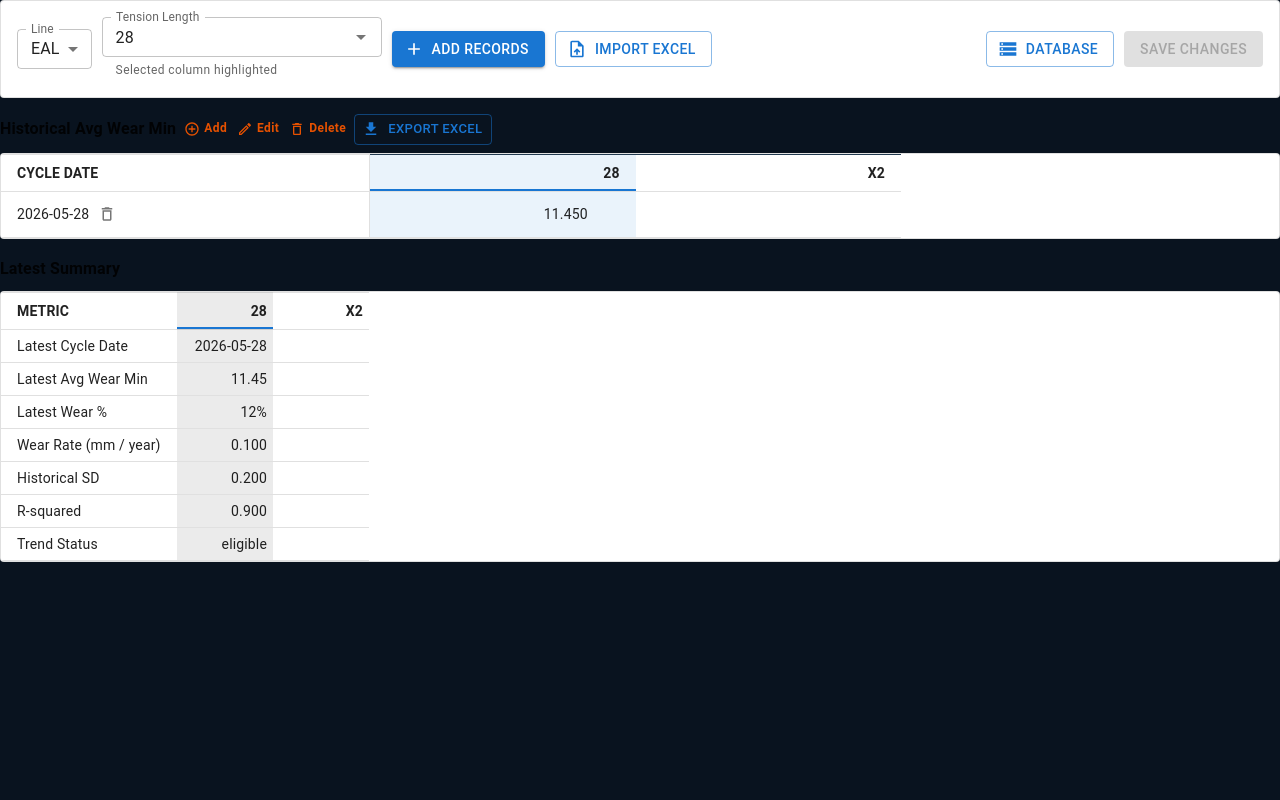
Test: WearRecordsPanel staged workbench › exposes batch, Excel, database, save, and normalized line-class workbench controls
Expected: the button "Add Records" is shown, [392,31,545,67]
Expected: the button "Import Excel" is shown, [555,31,712,67]
Click the dropdown named "Line": (45, 49) [31,40,60,58]
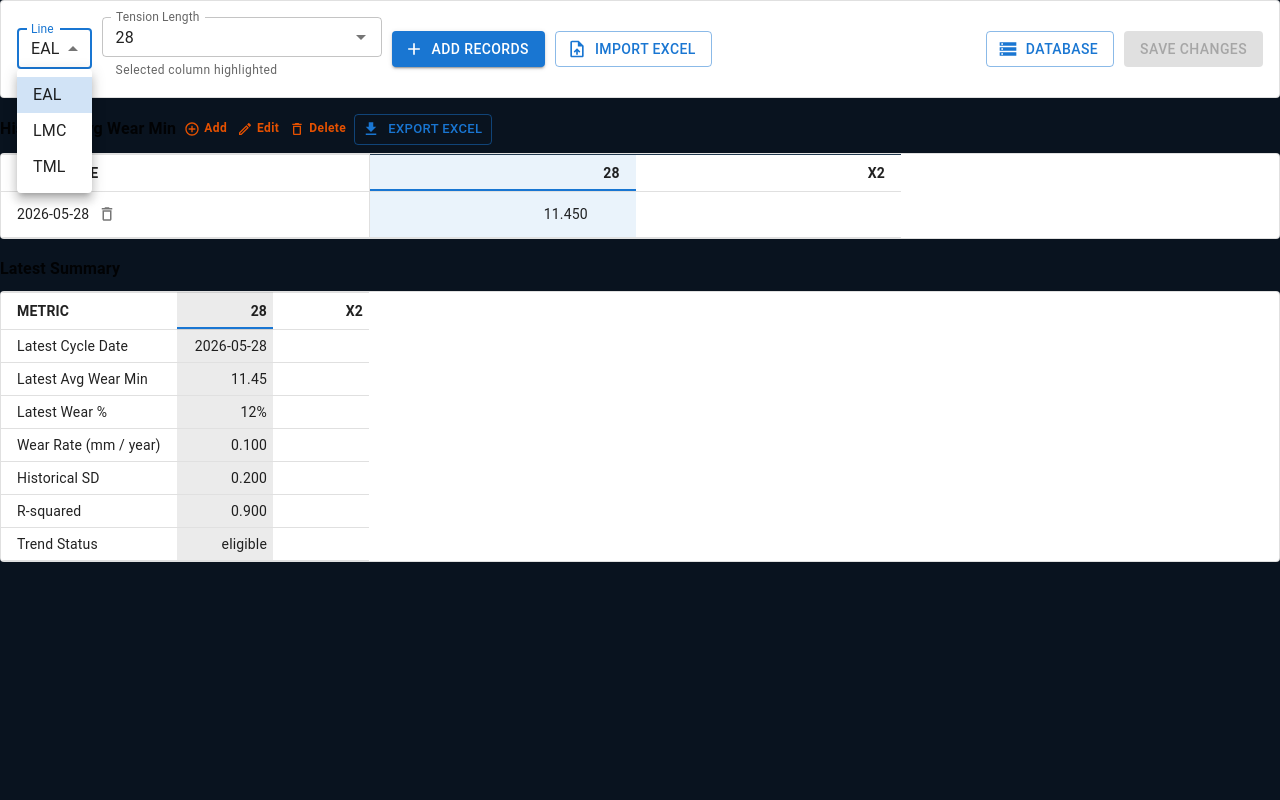
Click the option "LMC": (50, 130) [33,121,66,140]
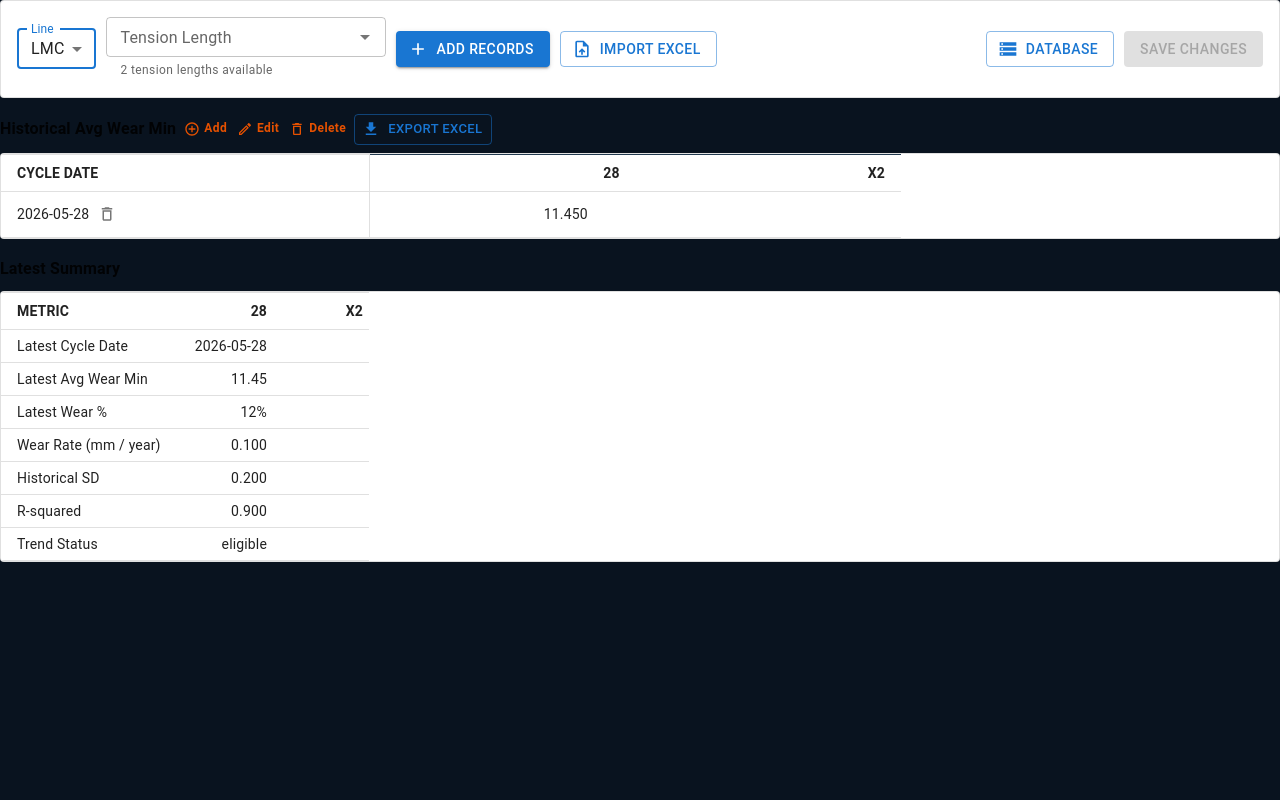
Click the button "Add Records": (473, 49) [396,31,550,67]
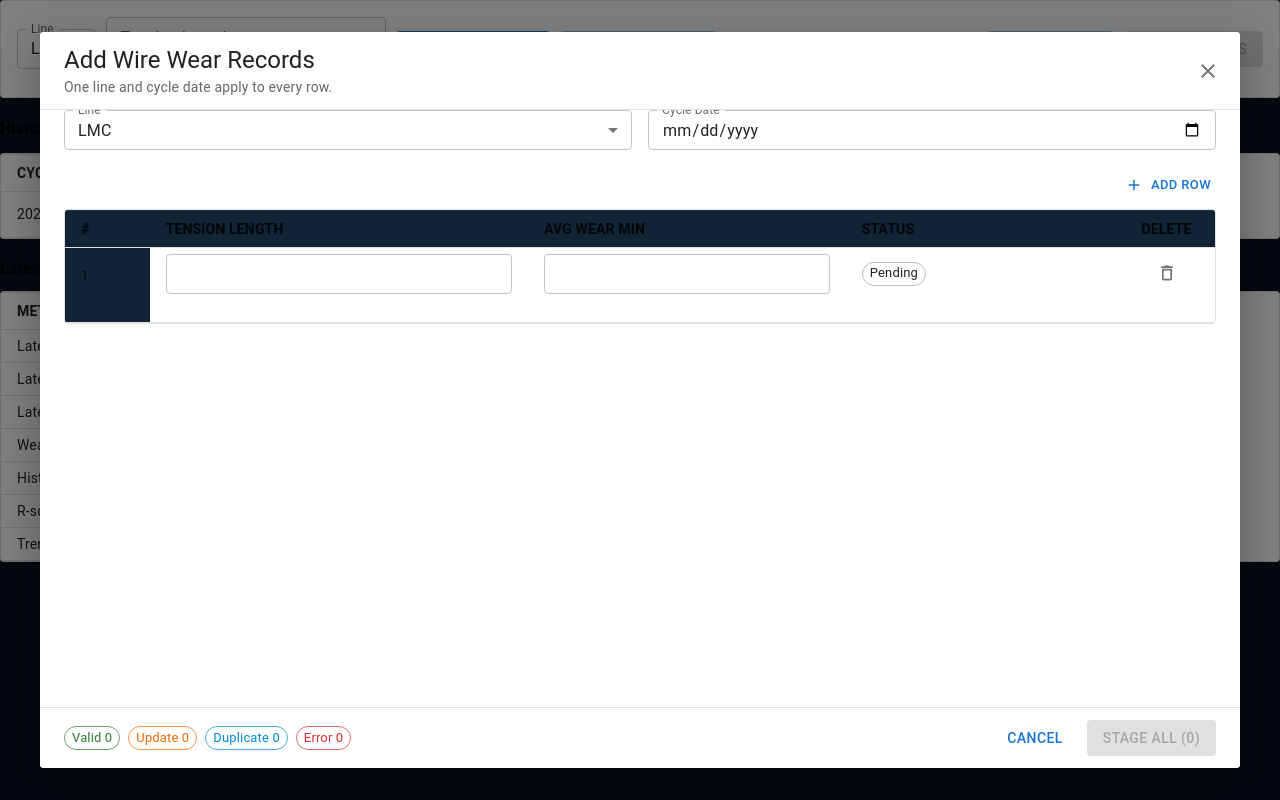
Expected: the dialog "Add Wire Wear Records" is shown
Click the button named "close add wire wear records": (1208, 70) [1188,50,1228,90]
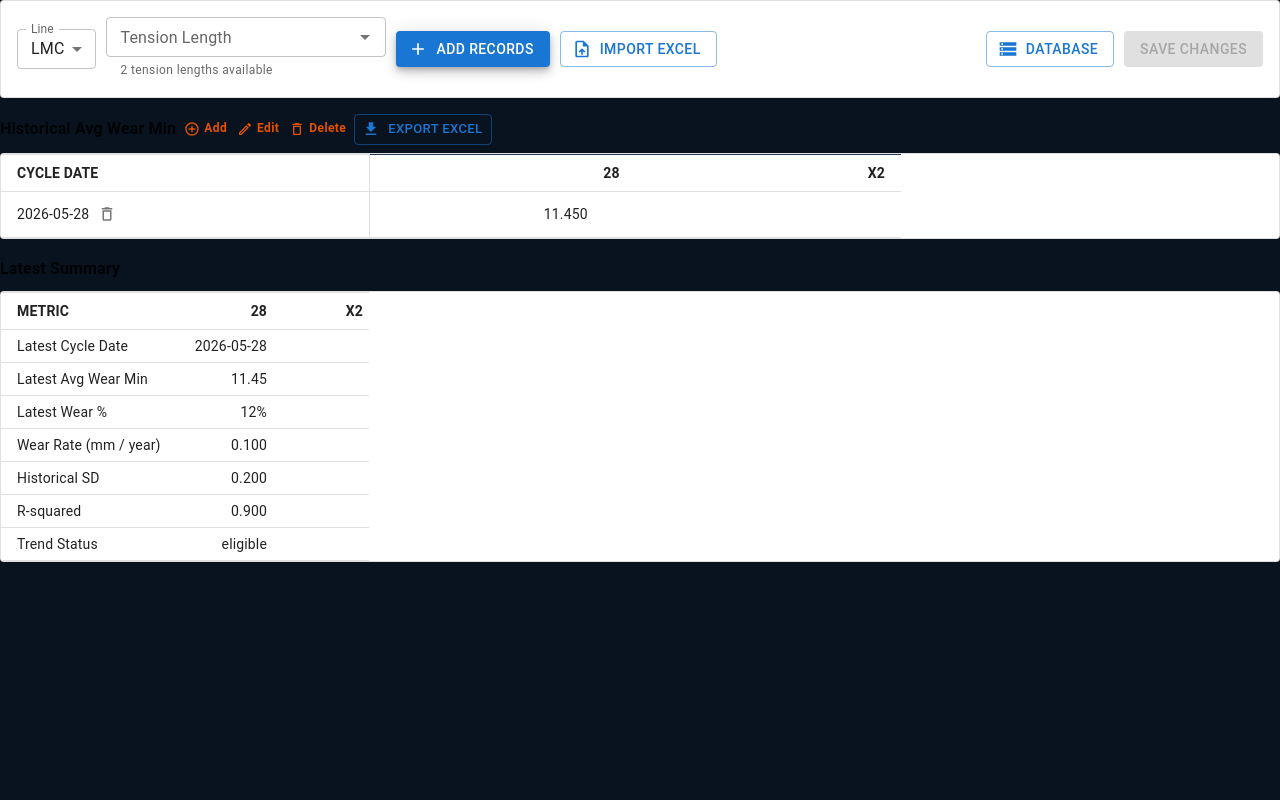
Expected: the text "Add Wire Wear Records" is gone
Click the button "Import Excel": (638, 49) [560,31,717,67]
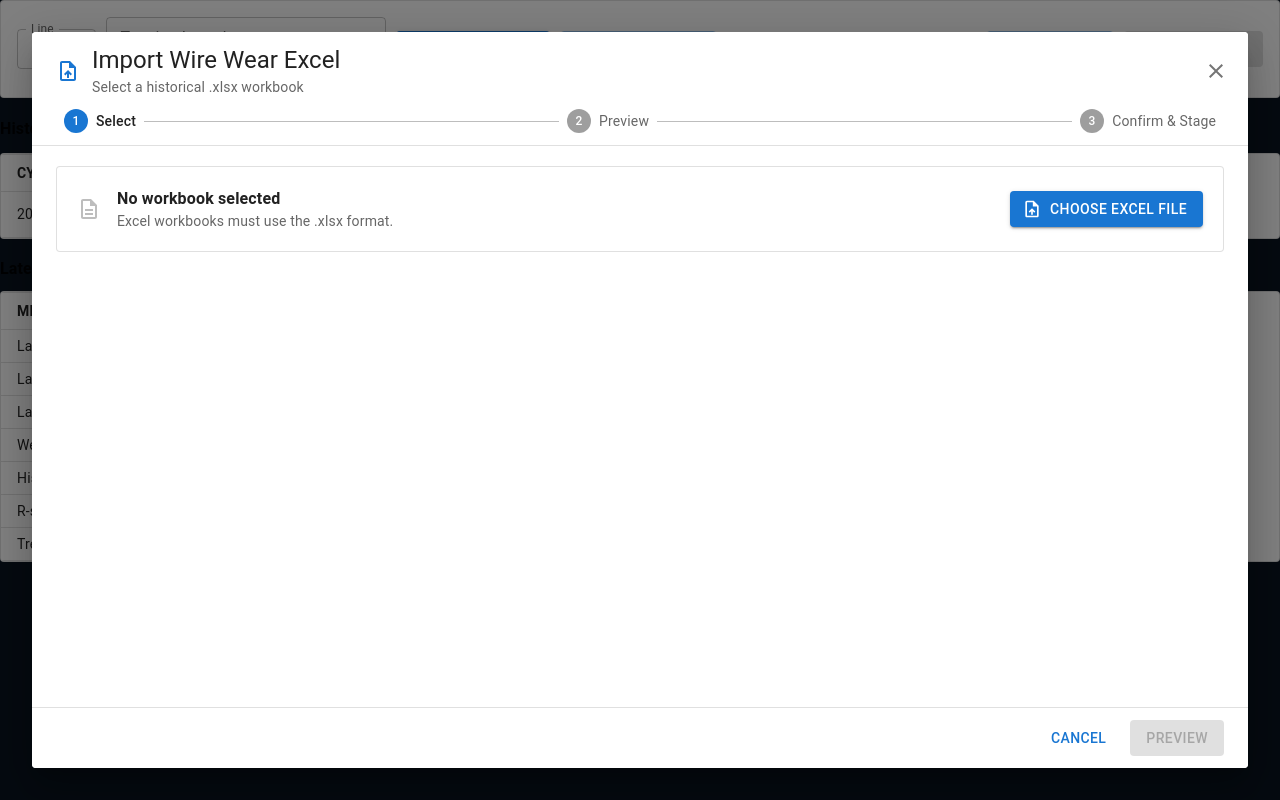
Expected: the dialog "Import Wire Wear Excel" is shown
